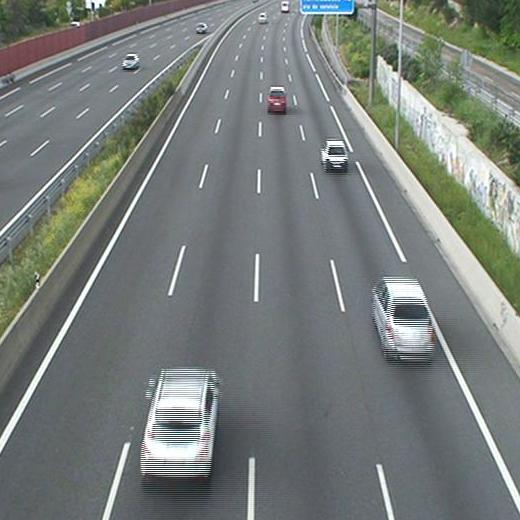car: (141, 367, 220, 489), (370, 276, 437, 366), (320, 140, 349, 172), (267, 86, 286, 115)
